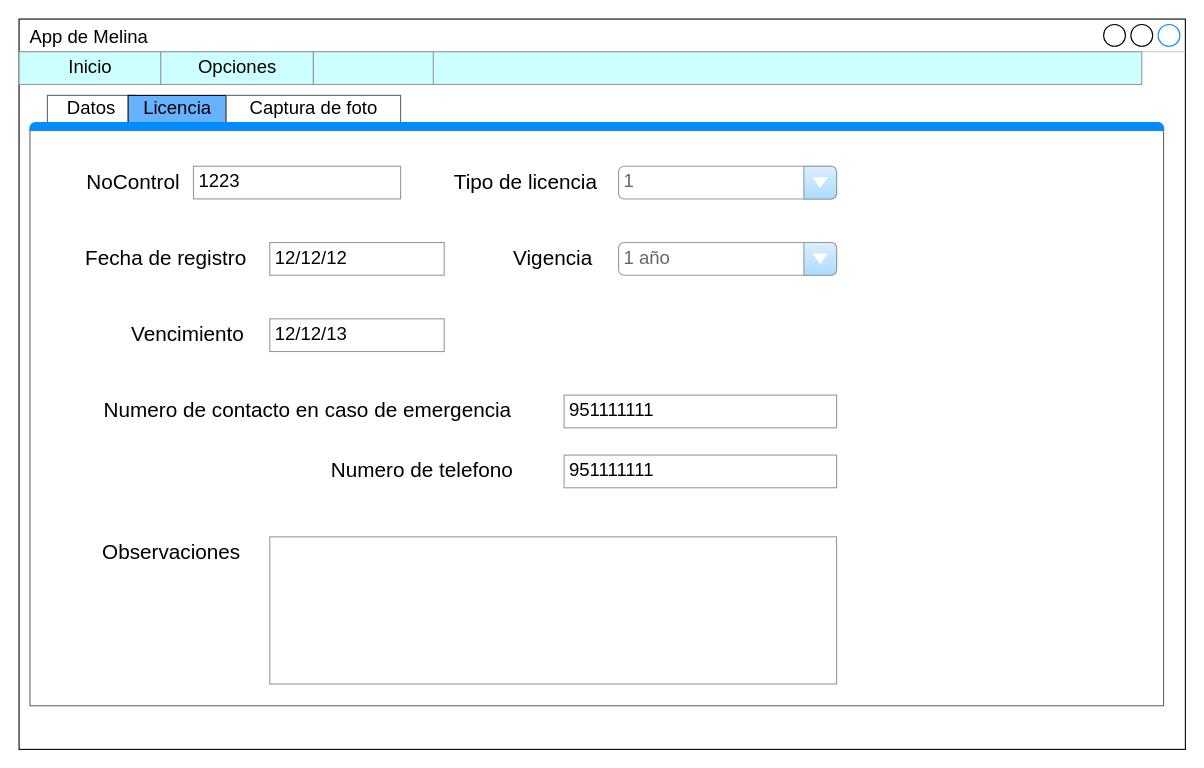
Image size: 1204x768. Some labels were removed from this diagram. Each missing label, with the centre of its shape:
"A veces conduce tomado" goes at pixel 553 610.
"Acerca de" goes at pixel 372 67.
